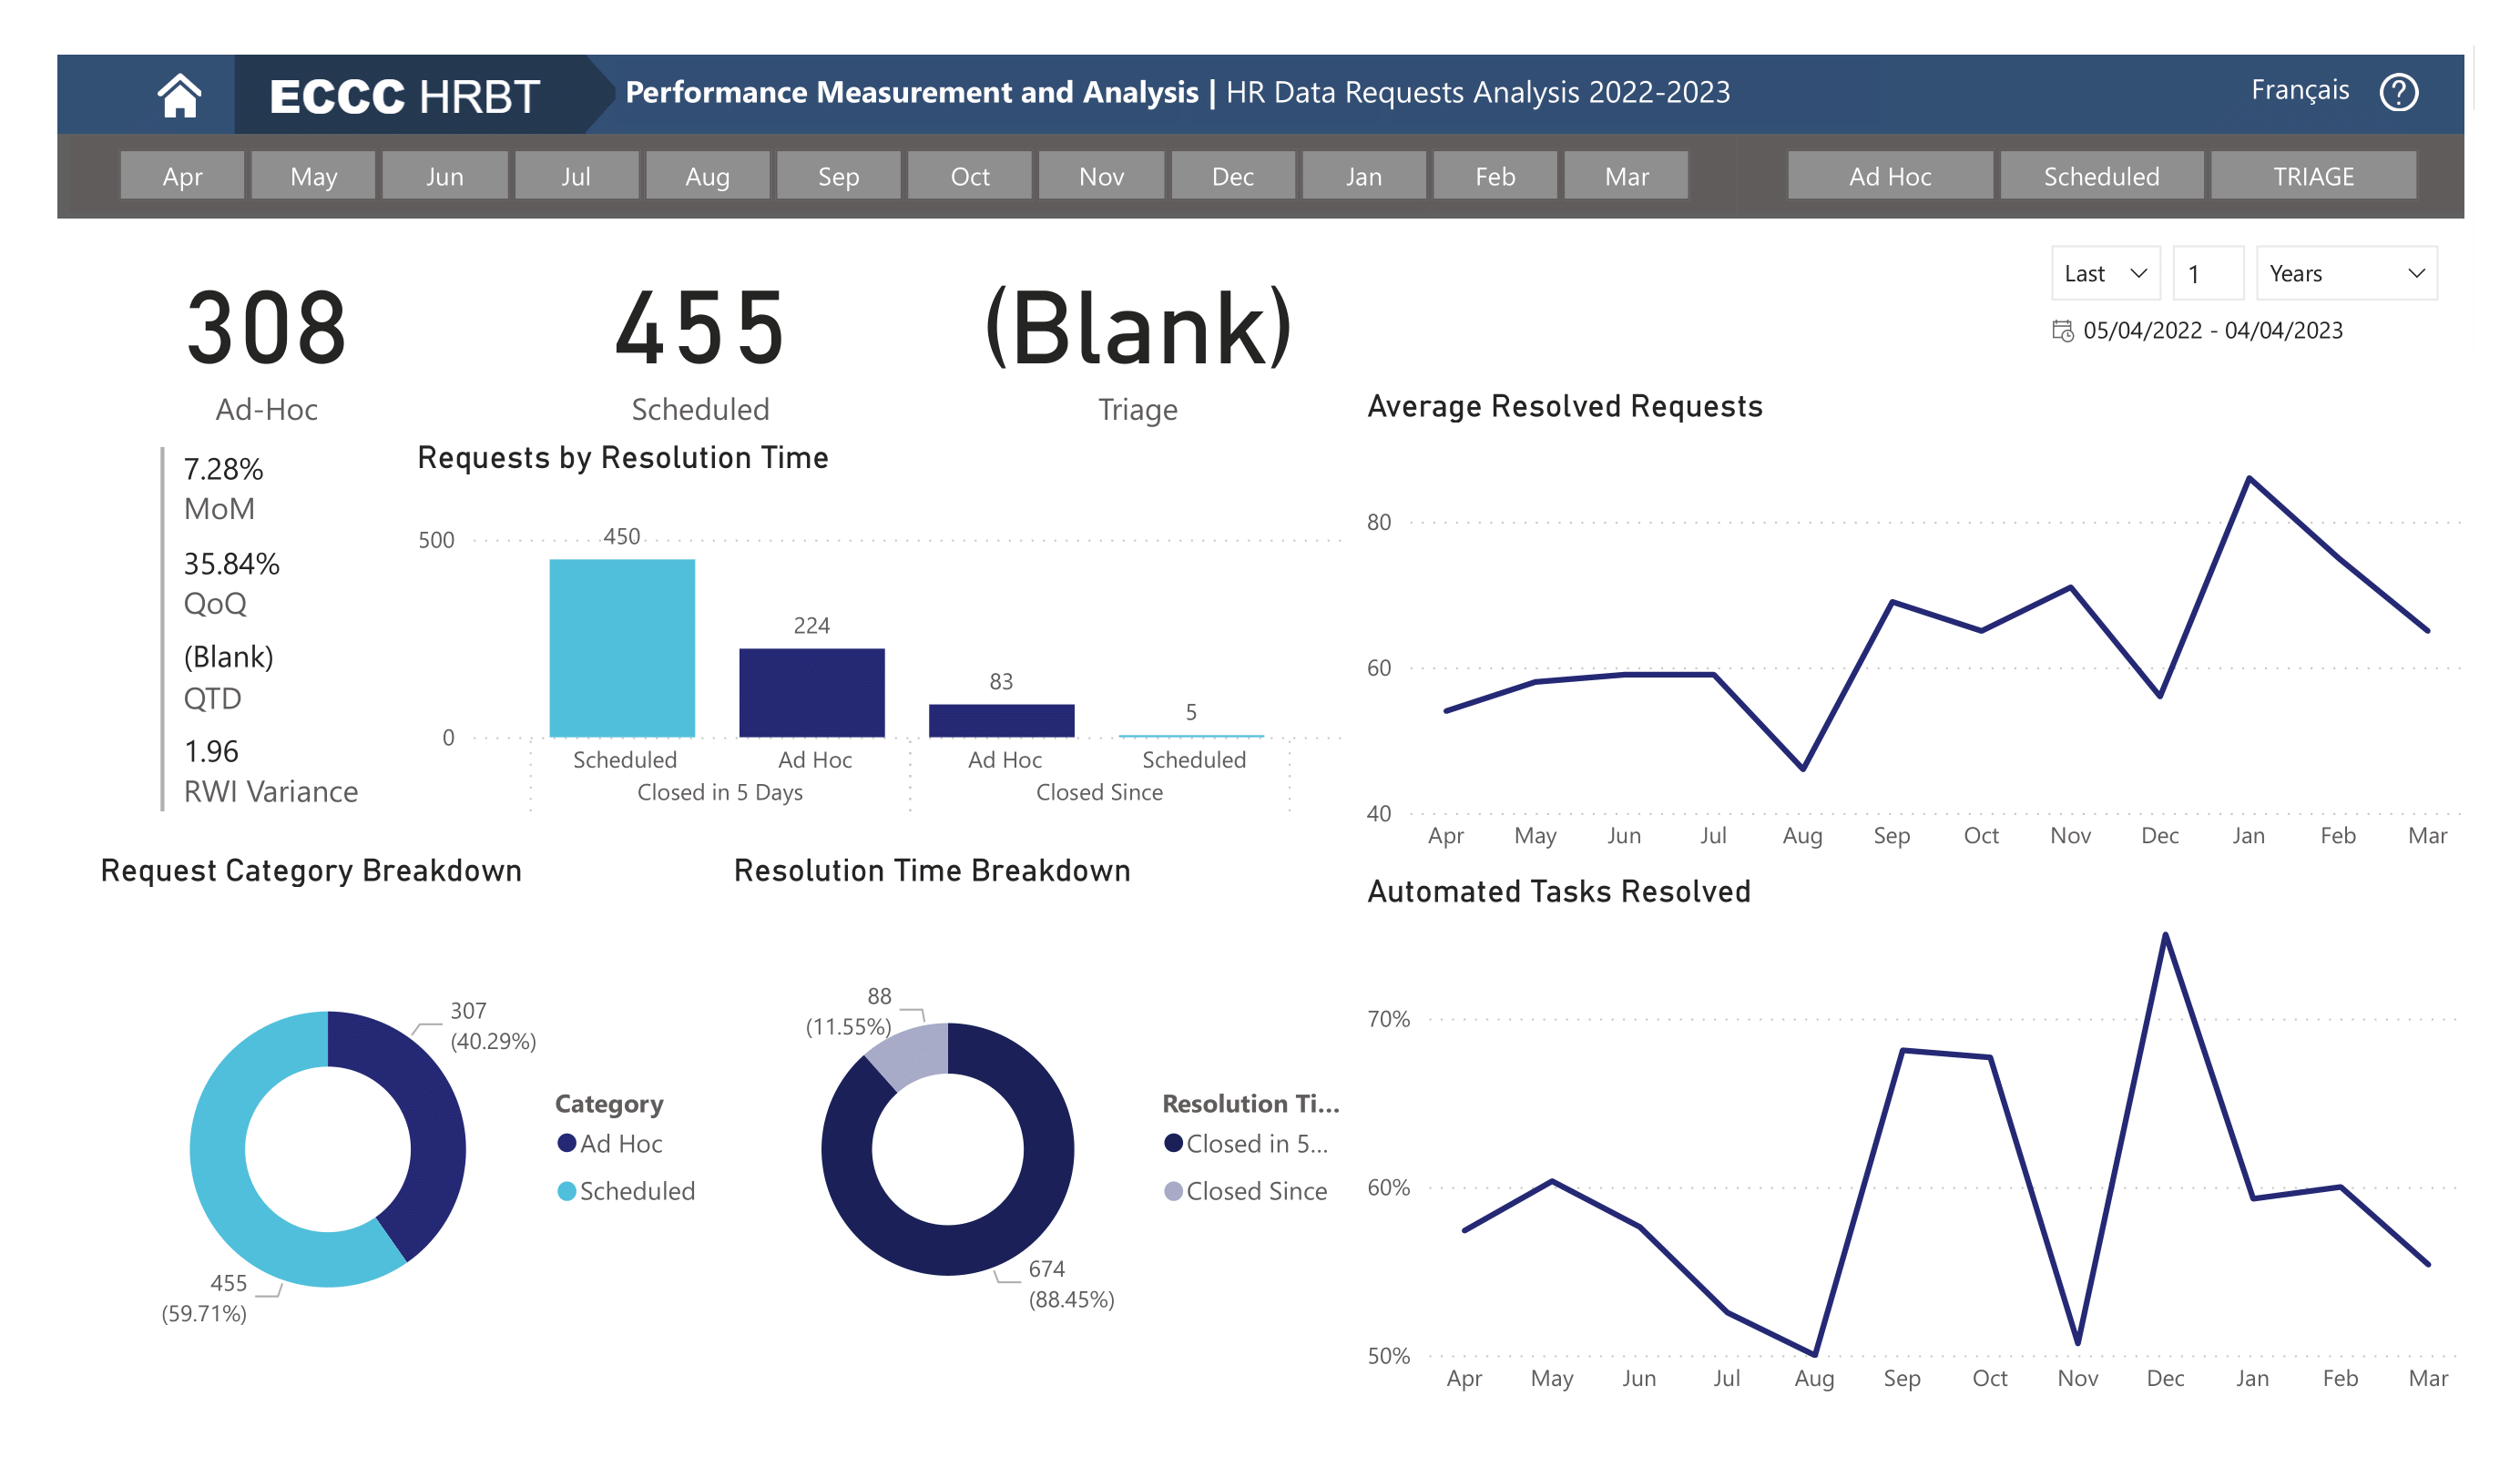

This screenshot's page, from the dashboard's own definition file:
{"tool":"powerbi","page":{"name":"Request Type Highlights","canvas":[1280,720],"ordinal":4},"visuals":[{"type":"image","box":[0.9,0,1278.3,96],"z":0},{"type":"image","box":[54.6,8.8,32.6,32.6],"z":1000},{"type":"actionButton","box":[1159.4,3.1,66.2,38.1],"z":2000},{"type":"image","box":[1225.7,8.8,30,30],"z":3000},{"type":"card","fields":{"Values":["CountNonNull(HR_DATA_REQUEST_REPORT.INC_CAT_N)"]},"box":[1,95.2,230.3,113.7],"z":4000},{"type":"card","fields":{"Values":["CountNonNull(HR_DATA_REQUEST_REPORT.INC_CAT_N)"]},"box":[230.3,95.2,230.3,113.7],"z":5000},{"type":"card","fields":{"Values":["CountNonNull(HR_DATA_REQUEST_REPORT.INC_CAT_N)"]},"box":[460.6,95.2,230.3,113.7],"z":6000},{"type":"slicer","fields":{"Values":["MonthOrder.MonthOrderDesc"]},"box":[12.6,47.6,878.4,39.8],"z":7000},{"type":"slicer","fields":{"Values":["Date.Date"]},"box":[1043.6,95.2,230.3,104],"z":8000},{"type":"slicer","fields":{"Values":["HR_DATA_REQUEST_REPORT.INC_CAT_N"]},"box":[891,47.6,382.8,39.8],"z":9000},{"type":"donutChart","title":"Request Category Breakdown","fields":{"Category":["HR_DATA_REQUEST_REPORT.INC_CAT_N"],"Y":["CountNonNull(HR_DATA_REQUEST_REPORT.INCIDENT_REF)"]},"box":[23.8,423.8,333.8,296.2],"z":10000},{"type":"donutChart","title":"Resolution Time Breakdown","fields":{"Category":["HR_DATA_REQUEST_REPORT.CLOSEDIN5DAYS"],"Y":["CountNonNull(HR_DATA_REQUEST_REPORT.INCIDENT_REF)"]},"box":[357.5,423.8,333.8,296.2],"z":11000},{"type":"lineChart","title":"Average Resolved Requests","fields":{"Category":["MonthOrder.MonthOrderDesc"],"Y":["HR_DATA_REQUEST_REPORT.Count of RESOLVED_DATE average per MonthOrderDesc"]},"box":[690.8,180,587.5,255],"z":12000},{"type":"lineChart","title":"Automated Tasks Resolved","fields":{"Category":["MonthOrder.MonthOrderDesc"],"Y":["HR_DATA_REQUEST_REPORT.Count of RESOLVED_DATE % difference from Scheduled"]},"box":[691.8,435.3,587.9,284.7],"z":13000},{"type":"multiRowCard","fields":{"Values":["HR_DATA_REQUEST_REPORT.Count of INCIDENT_REF MoM%","HR_DATA_REQUEST_REPORT.Count of INCIDENT_REF QoQ%","HR_DATA_REQUEST_REPORT.Count of INCIDENT_REF QTD","HR_DATA_REQUEST_REPORT.Requests Weighted Index Variance"]},"box":[55,206.2,176.2,208.8],"z":14000},{"type":"columnChart","title":"Requests by Resolution Time","fields":{"Category":["HR_DATA_REQUEST_REPORT.CLOSEDIN5DAYS","HR_DATA_REQUEST_REPORT.INC_CAT_N"],"Y":["CountNonNull(HR_DATA_REQUEST_REPORT.INCIDENT_REF)"]},"box":[190.8,206.7,500,209.2],"z":15000},{"type":"textbox","box":[300,8,666,33],"z":16000}]}

Visuals, with their boxes on the page's 1280x720 design canvas (x1, y1, x2, y2). These are canvas units, not pixel positions in the 2520x1457 screenshot, which may show the page scaled, cropped or inside an application window:
image: region(1, 0, 1279, 96)
image: region(55, 9, 87, 41)
actionButton: region(1159, 3, 1226, 41)
image: region(1226, 9, 1256, 39)
card - CountNonNull(HR_DATA_REQUEST_REPORT.INC_CAT_N): region(1, 95, 231, 209)
card - CountNonNull(HR_DATA_REQUEST_REPORT.INC_CAT_N): region(230, 95, 461, 209)
card - CountNonNull(HR_DATA_REQUEST_REPORT.INC_CAT_N): region(461, 95, 691, 209)
slicer - MonthOrder.MonthOrderDesc: region(13, 48, 891, 87)
slicer - Date.Date: region(1044, 95, 1274, 199)
slicer - HR_DATA_REQUEST_REPORT.INC_CAT_N: region(891, 48, 1274, 87)
"Request Category Breakdown" donutChart: region(24, 424, 358, 720)
"Resolution Time Breakdown" donutChart: region(358, 424, 691, 720)
"Average Resolved Requests" lineChart: region(691, 180, 1278, 435)
"Automated Tasks Resolved" lineChart: region(692, 435, 1280, 720)
multiRowCard - HR_DATA_REQUEST_REPORT.Count of INCIDENT_REF MoM% x HR_DATA_REQUEST_REPORT.Count of INCIDENT_REF QoQ%: region(55, 206, 231, 415)
"Requests by Resolution Time" columnChart: region(191, 207, 691, 416)
textbox: region(300, 8, 966, 41)
